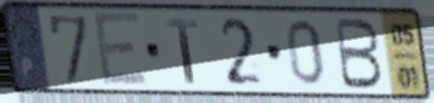0: (283, 17, 331, 90)
2: (217, 16, 265, 89)
7: (45, 13, 90, 86)
B: (333, 15, 386, 92)
E: (90, 9, 151, 90)
T: (162, 15, 201, 86)
